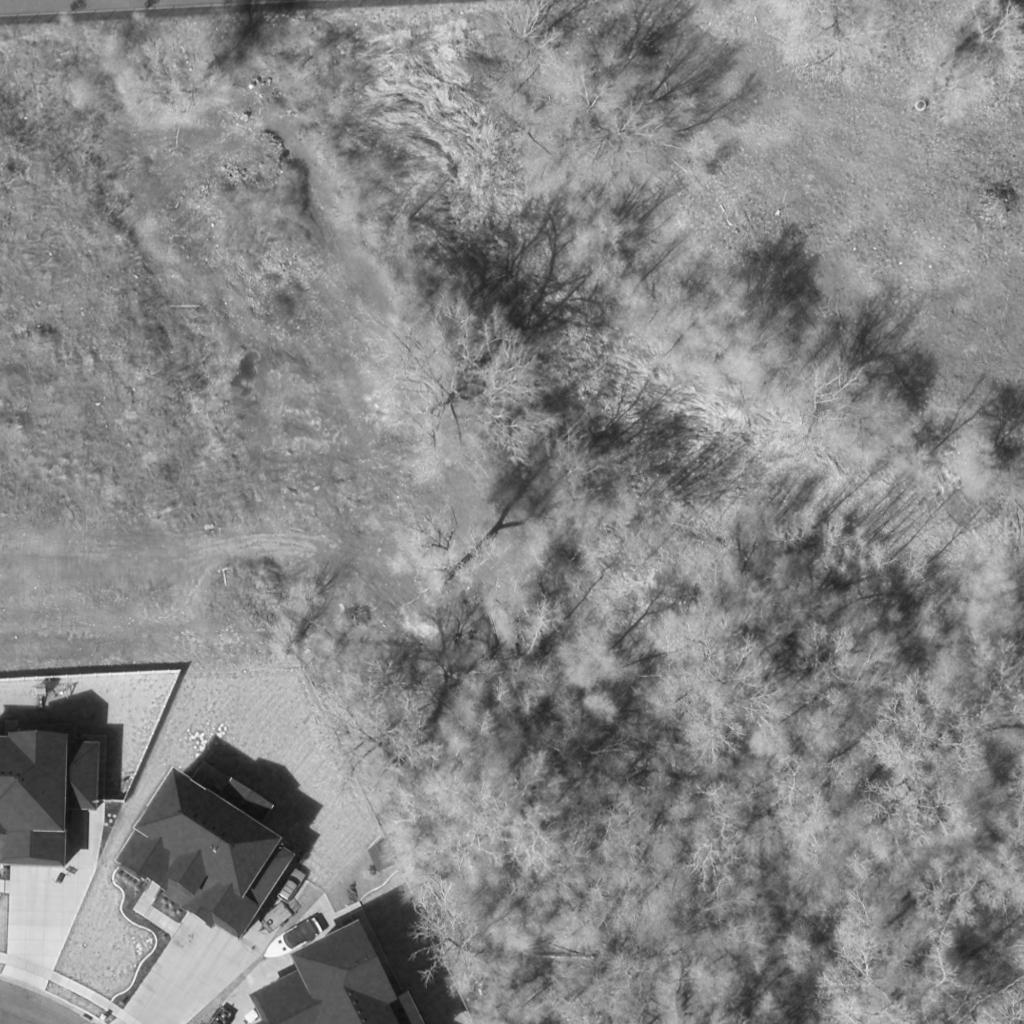vehicle: (258, 917, 324, 965), (276, 869, 308, 905)
